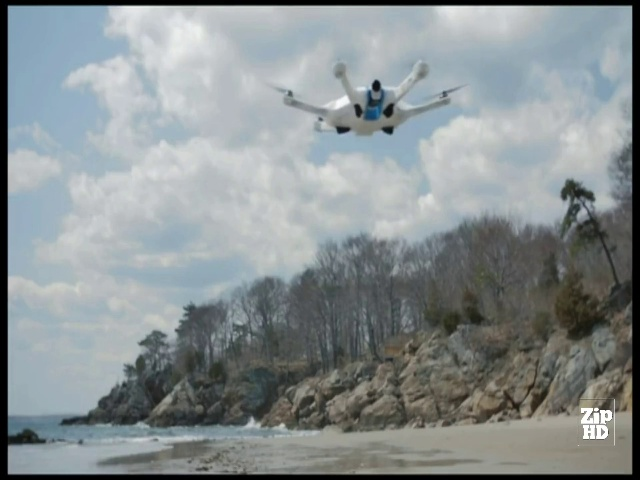drone: (262, 47, 472, 141)
